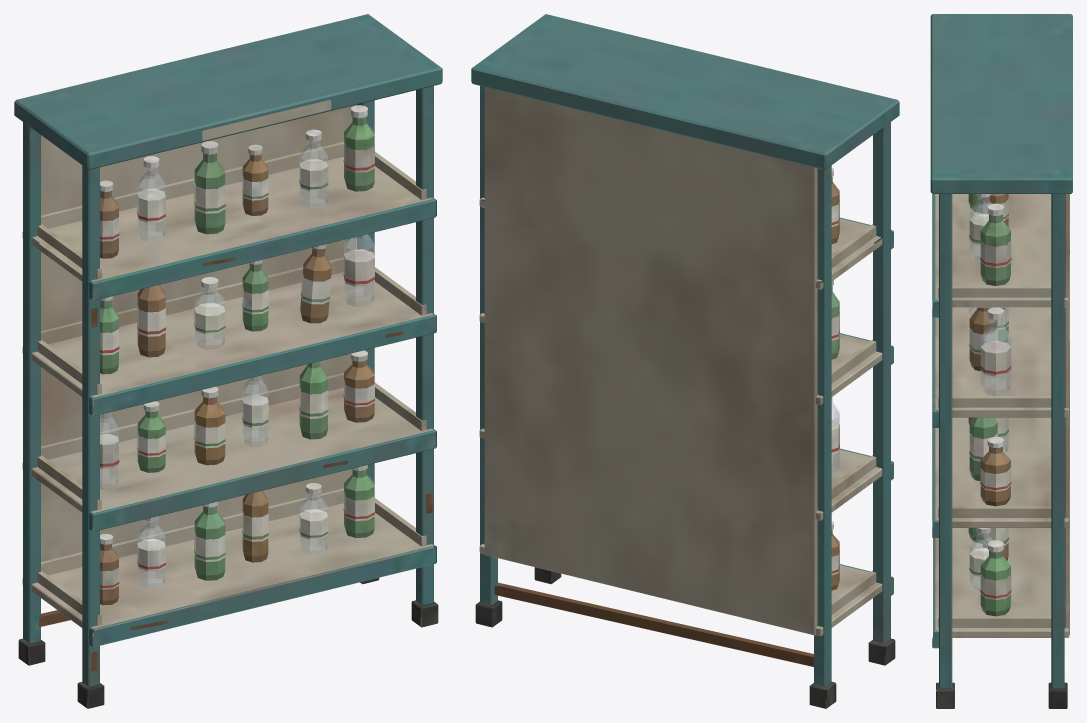
File: W12_pharmacy_shelf.glb
The picture shows the model from 3 angles, left to right: view 1: azimuth 30°, elevation 25°; view 2: azimuth 150°, elevation 25°; view 3: azimuth 270°, elevation 25°; orthographic projection. The views are drawn at different scales.
Parts seen in each view (by area): view 1: Square steel upright; view 2: Square steel upright; view 3: Square steel upright.
Boxes of the visible parts, x1,y1,x2,y2 form: Square steel upright: [14, 14, 442, 708]; Square steel upright: [471, 14, 899, 708]; Square steel upright: [930, 14, 1072, 708].
Bounding box in the file's own units: 1.33 × 2 × 0.4939.
Materials: 11 (10 with a texture image).
